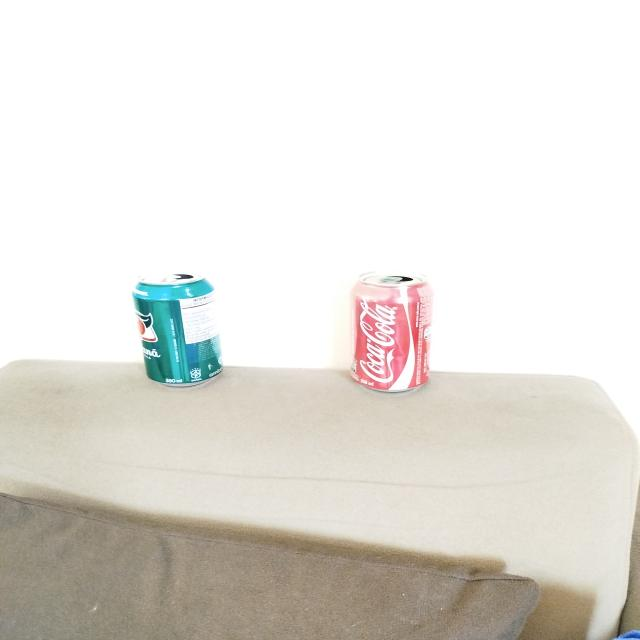Coca Cola: (350, 271, 434, 393)
Guarana: (132, 273, 222, 387)
